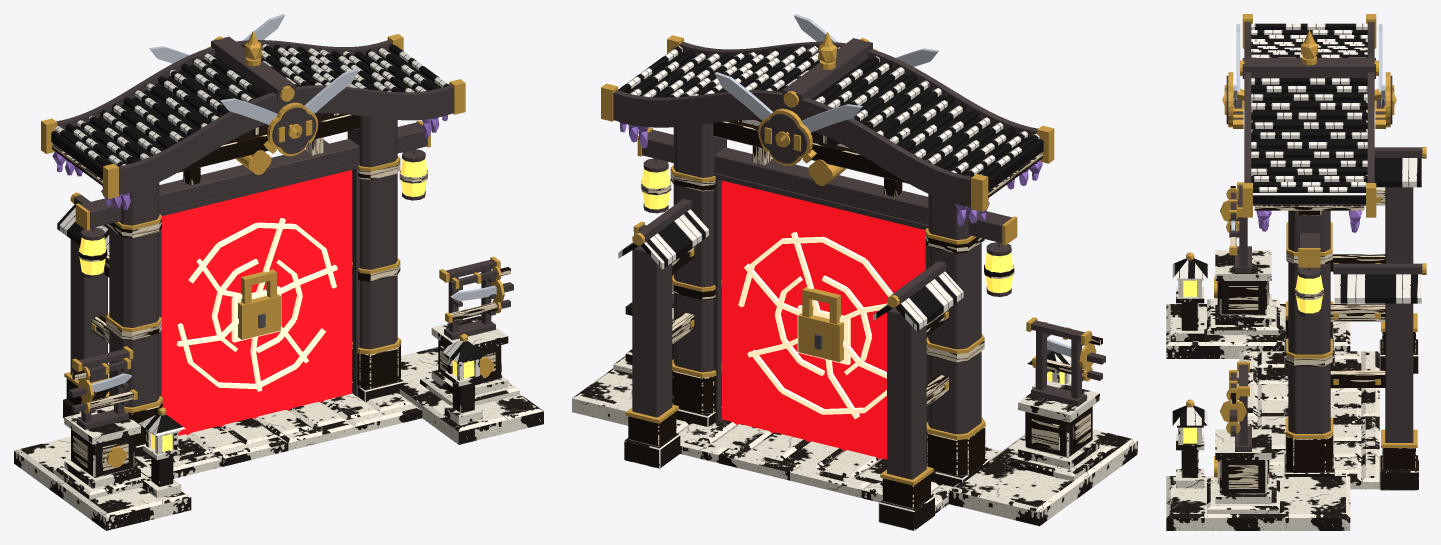
Rendered from PORTAO_DemonSlayer_08_PURCHASE_GATES_3e7026.fbx.
3 renders of one model, left to right at view 1: azimuth 30°, elevation 25°; view 2: azimuth 150°, elevation 25°; view 3: azimuth 270°, elevation 25°, orthographic. The views are drawn at different scales.
Visible parts, largest first — view 1: GATE_DemonSlayer_Frame__P_DS_Black, GATE_DemonSlayer_Barrier__P_DS_Glow, GATE_DemonSlayer_Frame__Stone_Wall_Dark, GATE_DemonSlayer_Frame__Roof_Blue, GATE_DemonSlayer_Frame__Stone_Wall_Light, GATE_DemonSlayer_Frame__Wood_Lacquer_Red, GATE_DemonSlayer_Frame__Metal_Gold, GATE_DemonSlayer_Barrier__Energy_Core_DemonSlayer_Glow, GATE_DemonSlayer_Frame__Metal_GateDS_Blade, GATE_DemonSlayer_Lock__Metal_Gold, GATE_DemonSlayer_Frame__Lantern_Glow, GATE_DemonSlayer_Frame__Leaf_GateDS_Wisteria (+1 smaller); view 2: GATE_DemonSlayer_Frame__P_DS_Black, GATE_DemonSlayer_Barrier__P_DS_Glow, GATE_DemonSlayer_Frame__Roof_Blue, GATE_DemonSlayer_Frame__Stone_Wall_Dark, GATE_DemonSlayer_Frame__Wood_Lacquer_Red, GATE_DemonSlayer_Frame__Stone_Wall_Light, GATE_DemonSlayer_Frame__Metal_Gold, GATE_DemonSlayer_Barrier__Energy_Core_DemonSlayer_Glow, GATE_DemonSlayer_Frame__Stone_Dark, GATE_DemonSlayer_Frame__Metal_GateDS_Blade, GATE_DemonSlayer_Lock__Metal_Gold, GATE_DemonSlayer_Frame__Lantern_Glow (+1 smaller); view 3: GATE_DemonSlayer_Frame__Roof_Blue, GATE_DemonSlayer_Frame__P_DS_Black, GATE_DemonSlayer_Frame__Stone_Wall_Dark, GATE_DemonSlayer_Frame__Stone_Wall_Light, GATE_DemonSlayer_Frame__Wood_Lacquer_Red, GATE_DemonSlayer_Frame__Metal_Gold, GATE_DemonSlayer_Frame__Stone_Dark, GATE_DemonSlayer_Frame__Lantern_Glow, GATE_DemonSlayer_Frame__Metal_GateDS_Blade, GATE_DemonSlayer_Frame__Wood_Dark, GATE_DemonSlayer_Frame__Leaf_GateDS_Wisteria.
Part boxes in pixels (<box>): GATE_DemonSlayer_Frame__P_DS_Black: <box>56,36,513,429</box>; GATE_DemonSlayer_Barrier__P_DS_Glow: <box>161,170,352,435</box>; GATE_DemonSlayer_Frame__Stone_Wall_Dark: <box>14,316,543,530</box>; GATE_DemonSlayer_Frame__Roof_Blue: <box>51,44,486,435</box>; GATE_DemonSlayer_Frame__Stone_Wall_Light: <box>53,340,519,499</box>; GATE_DemonSlayer_Frame__Wood_Lacquer_Red: <box>66,114,510,470</box>; GATE_DemonSlayer_Frame__Metal_Gold: <box>41,31,504,467</box>; GATE_DemonSlayer_Barrier__Energy_Core_DemonSlayer_Glow: <box>176,218,337,391</box>; GATE_DemonSlayer_Frame__Metal_GateDS_Blade: <box>92,14,496,392</box>; GATE_DemonSlayer_Lock__Metal_Gold: <box>238,269,280,339</box>; GATE_DemonSlayer_Frame__Lantern_Glow: <box>79,158,474,451</box>; GATE_DemonSlayer_Frame__Leaf_GateDS_Wisteria: <box>52,115,447,209</box>; GATE_DemonSlayer_Frame__P_DS_Black: <box>613,38,1105,479</box>; GATE_DemonSlayer_Barrier__P_DS_Glow: <box>721,180,925,459</box>; GATE_DemonSlayer_Frame__Roof_Blue: <box>618,46,1071,371</box>; GATE_DemonSlayer_Frame__Stone_Wall_Dark: <box>572,291,1137,526</box>; GATE_DemonSlayer_Frame__Wood_Lacquer_Red: <box>628,120,1102,508</box>; GATE_DemonSlayer_Frame__Stone_Wall_Light: <box>613,344,1112,507</box>; GATE_DemonSlayer_Frame__Metal_Gold: <box>601,32,1096,485</box>; GATE_DemonSlayer_Barrier__Energy_Core_DemonSlayer_Glow: <box>738,232,893,418</box>; GATE_DemonSlayer_Frame__Stone_Dark: <box>624,407,989,530</box>; GATE_DemonSlayer_Frame__Metal_GateDS_Blade: <box>714,14,1071,356</box>; GATE_DemonSlayer_Lock__Metal_Gold: <box>798,287,843,362</box>; GATE_DemonSlayer_Frame__Lantern_Glow: <box>641,169,1064,384</box>; GATE_DemonSlayer_Frame__Roof_Blue: <box>1172,23,1421,425</box>; GATE_DemonSlayer_Frame__P_DS_Black: <box>1226,22,1422,451</box>; GATE_DemonSlayer_Frame__Stone_Wall_Dark: <box>1166,250,1379,530</box>; GATE_DemonSlayer_Frame__Stone_Wall_Light: <box>1178,280,1361,513</box>; GATE_DemonSlayer_Frame__Wood_Lacquer_Red: <box>1217,186,1415,488</box>; GATE_DemonSlayer_Frame__Metal_Gold: <box>1186,14,1426,477</box>; GATE_DemonSlayer_Frame__Stone_Dark: <box>1284,337,1418,490</box>; GATE_DemonSlayer_Frame__Lantern_Glow: <box>1183,275,1323,443</box>; GATE_DemonSlayer_Frame__Metal_GateDS_Blade: <box>1231,24,1385,230</box>; GATE_DemonSlayer_Frame__Wood_Dark: <box>1254,205,1364,210</box>; GATE_DemonSlayer_Frame__Leaf_GateDS_Wisteria: <box>1256,208,1361,232</box>.
Bounding box in the file's own units: 36.3 × 30.95 × 18.55.
12 materials, 4 textured.
